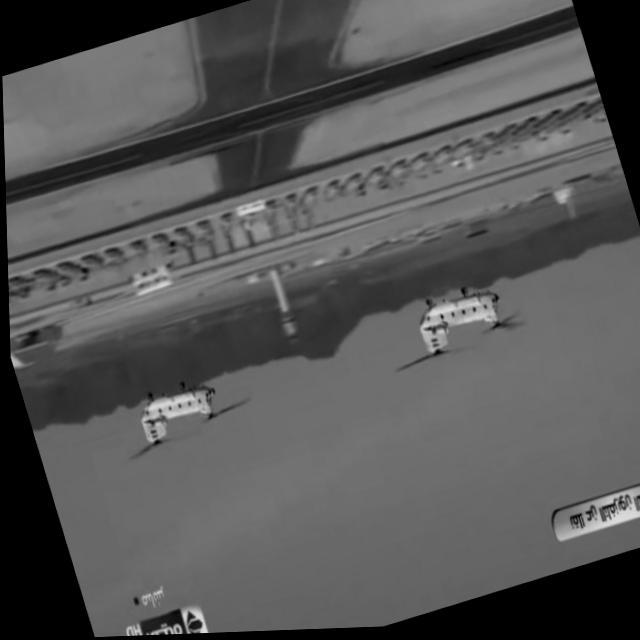helikopter: (385, 260, 529, 396), (103, 356, 234, 475)
